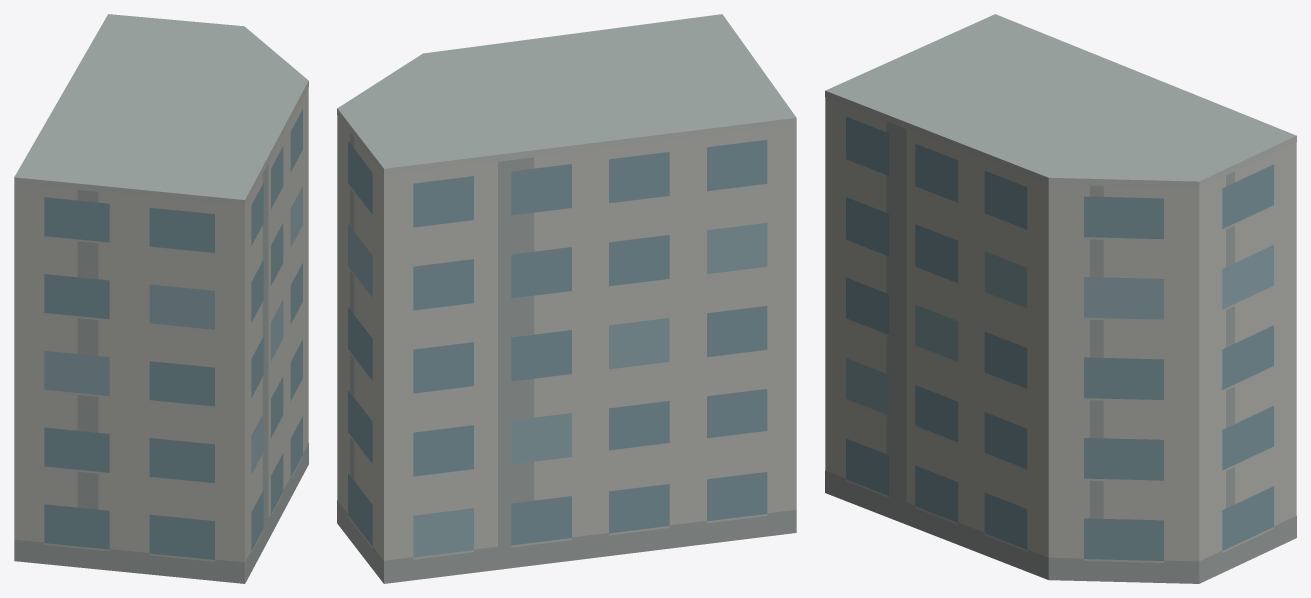
Rendered from survey-upis-32885003.glb.
3 views of the same model, side by side, from view 1: azimuth 30°, elevation 25°; view 2: azimuth 150°, elevation 25°; view 3: azimuth 270°, elevation 25° (orthographic). The views are drawn at different scales.
Visible parts, largest first — view 1: survey-upis-32885003.tmp; view 2: survey-upis-32885003.tmp; view 3: survey-upis-32885003.tmp.
Part boxes in pixels (x1,y1,x2,y2): survey-upis-32885003.tmp: (14, 14, 308, 583); survey-upis-32885003.tmp: (337, 14, 796, 583); survey-upis-32885003.tmp: (825, 14, 1296, 583).
Size of the model in its own units: 12.91 by 14.45 by 15.35.
